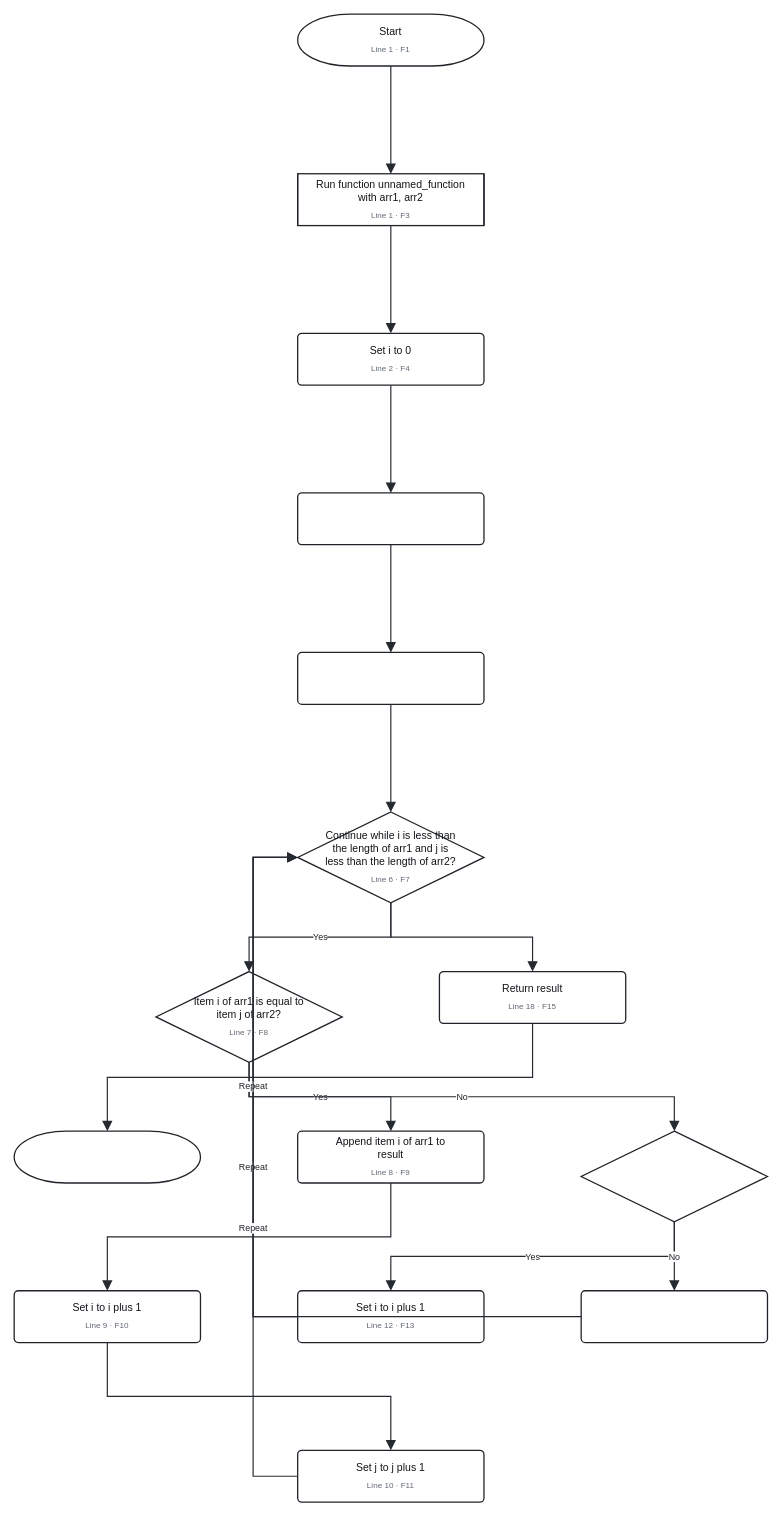
Some shapes in this 782 by 1517 pixel diagram are drawn without their labels. Here are the shapes that lost their labels. From the top down, the centre of each, then its label:
(390,518): Set j to 0 Line 3 · F5
(390,678): Set result to an empty list Line 4 · F6
(107,1156): End Line 1 · F2
(674,1176): Item i of arr1 is less than item j of arr2? Line 11 · F12
(674,1316): Set j to j plus 1 Line 14 · F14
